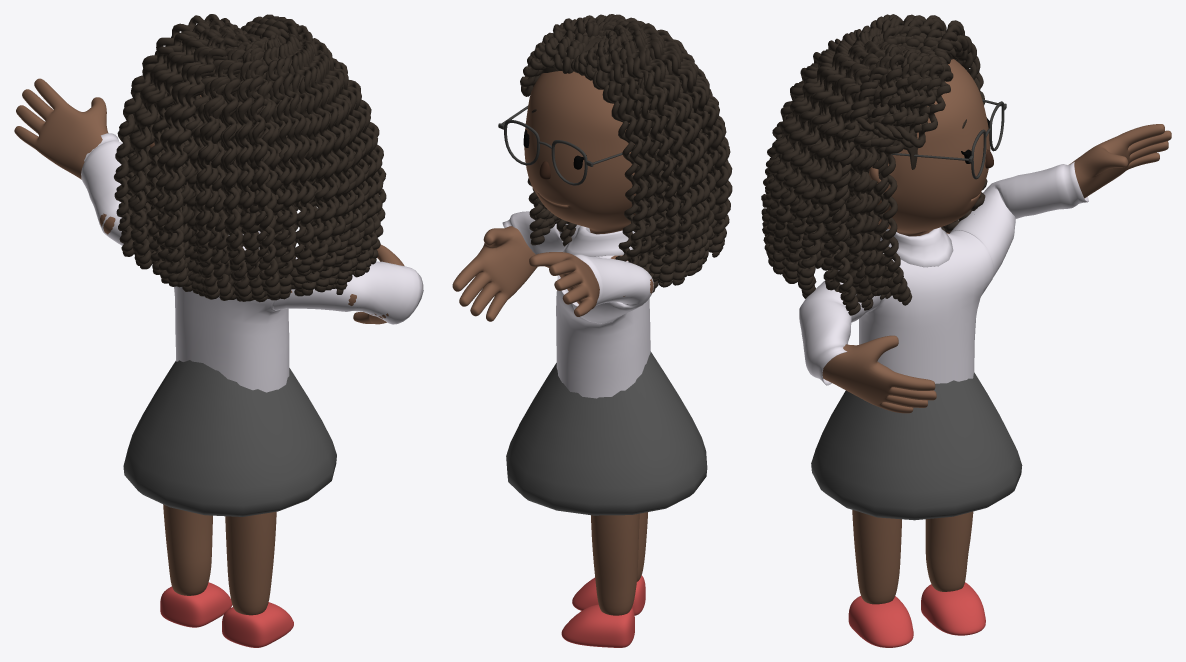
The model's file is directrice_artistique.gltf.
3 views of the same model, side by side, from view 1: azimuth 30°, elevation 25°; view 2: azimuth 150°, elevation 25°; view 3: azimuth 270°, elevation 25° (orthographic). The views are drawn at different scales.
Parts seen in each view (by area): view 1: Hair13, Cube.031, female_turtelneck, body.004, Cube.030, Cube.029, Cube.027, Cube.028; view 2: Hair13, Cube.031, female_turtelneck, head.002, body.004, Cube.029, Cube.028, eyeglass_2, Cube.027, Cube.030; view 3: Hair13, female_turtelneck, Cube.031, head.002, body.004, Cube.030, Cube.029, Cube.028, Cube.027, eyeglass_2.
Part boxes in pixels (box(x1,y1,x2,y2)): Hair13: box(114, 14, 386, 302); Cube.031: box(123, 360, 336, 516); female_turtelneck: box(81, 133, 423, 392); body.004: box(14, 78, 404, 324); Cube.030: box(225, 511, 276, 615); Cube.029: box(163, 504, 212, 595); Cube.027: box(222, 602, 293, 647); Cube.028: box(160, 582, 232, 627); Hair13: box(520, 14, 732, 292); Cube.031: box(506, 351, 707, 515); female_turtelneck: box(502, 211, 653, 398); head.002: box(524, 71, 639, 261); body.004: box(452, 226, 653, 321); Cube.029: box(591, 513, 639, 615); Cube.028: box(561, 604, 634, 647); eyeglass_2: box(498, 105, 631, 185); Cube.027: box(572, 575, 645, 615); Cube.030: box(637, 512, 647, 581); Hair13: box(761, 14, 987, 315); female_turtelneck: box(799, 162, 1088, 385); Cube.031: box(811, 372, 1022, 520); head.002: box(869, 59, 990, 236); body.004: box(822, 124, 1171, 413); Cube.030: box(852, 510, 901, 604); Cube.029: box(925, 511, 973, 591); Cube.028: box(921, 582, 985, 635); Cube.027: box(848, 596, 913, 647); eyeglass_2: box(892, 99, 1006, 179).
Size of the model in its own units: 5.86 by 13.25 by 8.2.
